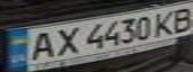0: (133, 12, 157, 41)
3: (118, 16, 139, 44)
4: (81, 20, 109, 51), (103, 18, 124, 47)
A: (21, 28, 60, 61)
B: (166, 3, 193, 34)
K: (151, 8, 181, 37)
X: (48, 25, 84, 57)
